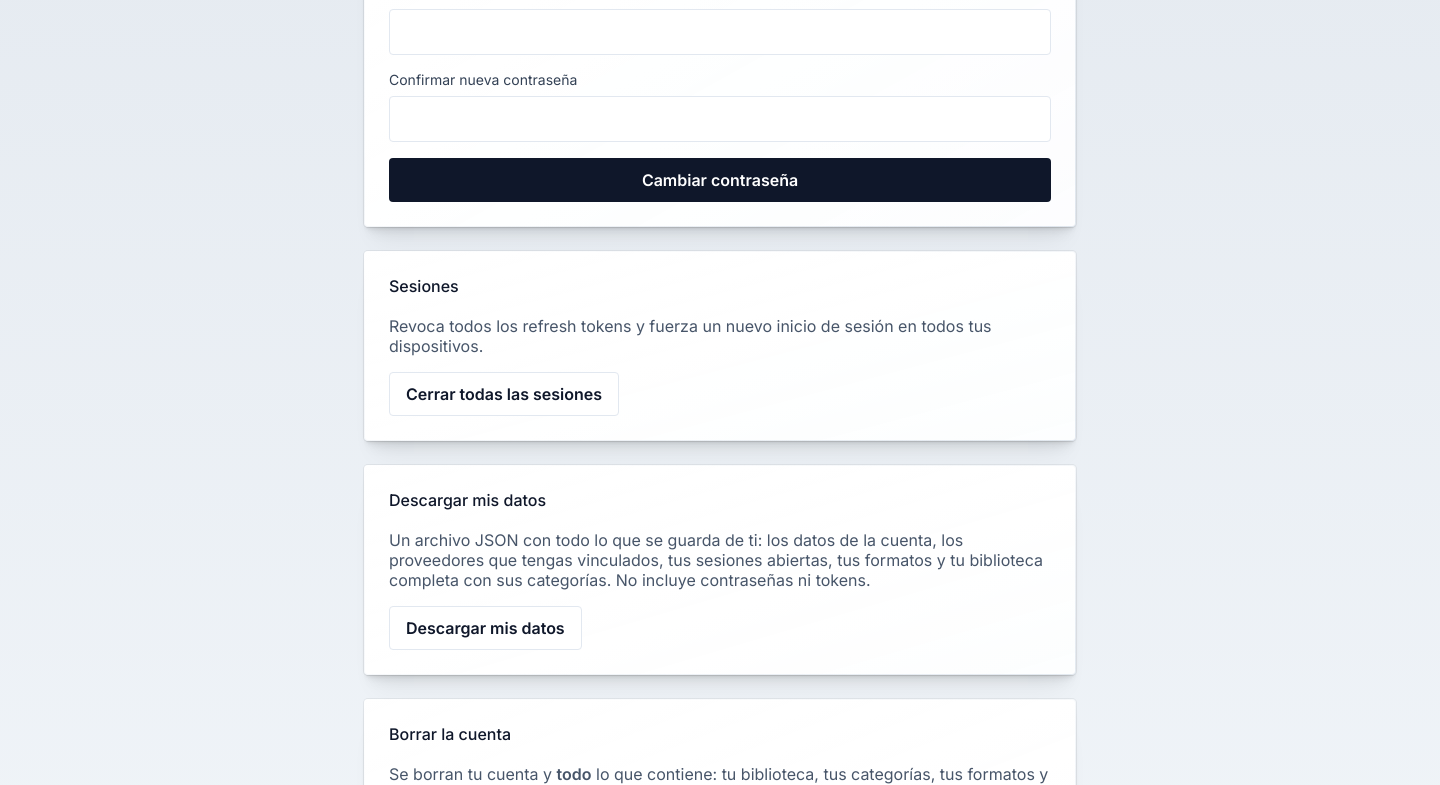
Test case: ProfileView › confirms logout-all, shows a toast and redirects back to login
(page scrolled)
Click the button "Cerrar todas las sesiones" at (504, 394), box [389,372,619,416]
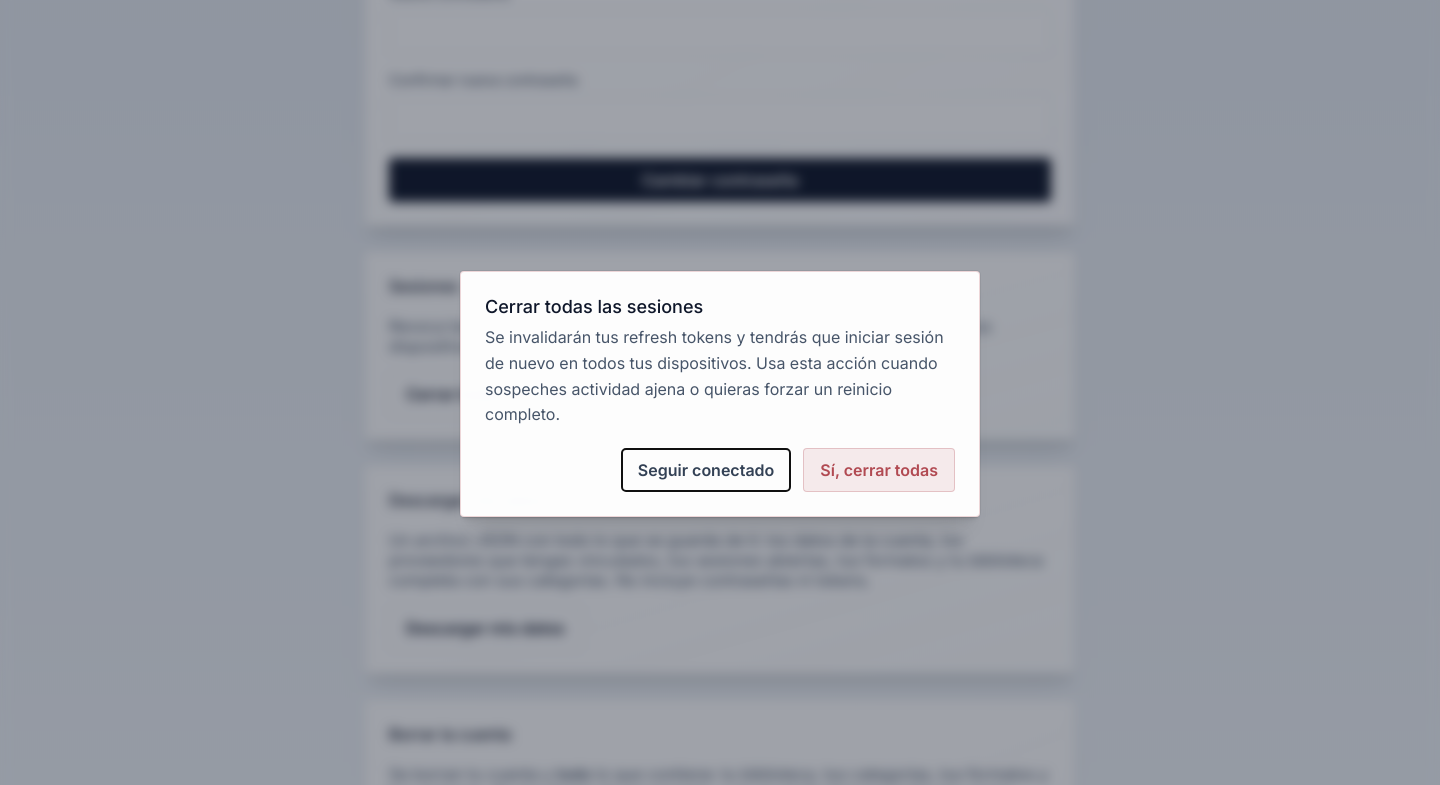
Expected: the dialog "Cerrar todas las sesiones" is shown, [460,271,980,517]
Click the button "Sí, cerrar todas" at (879, 470), box [803,448,955,492]
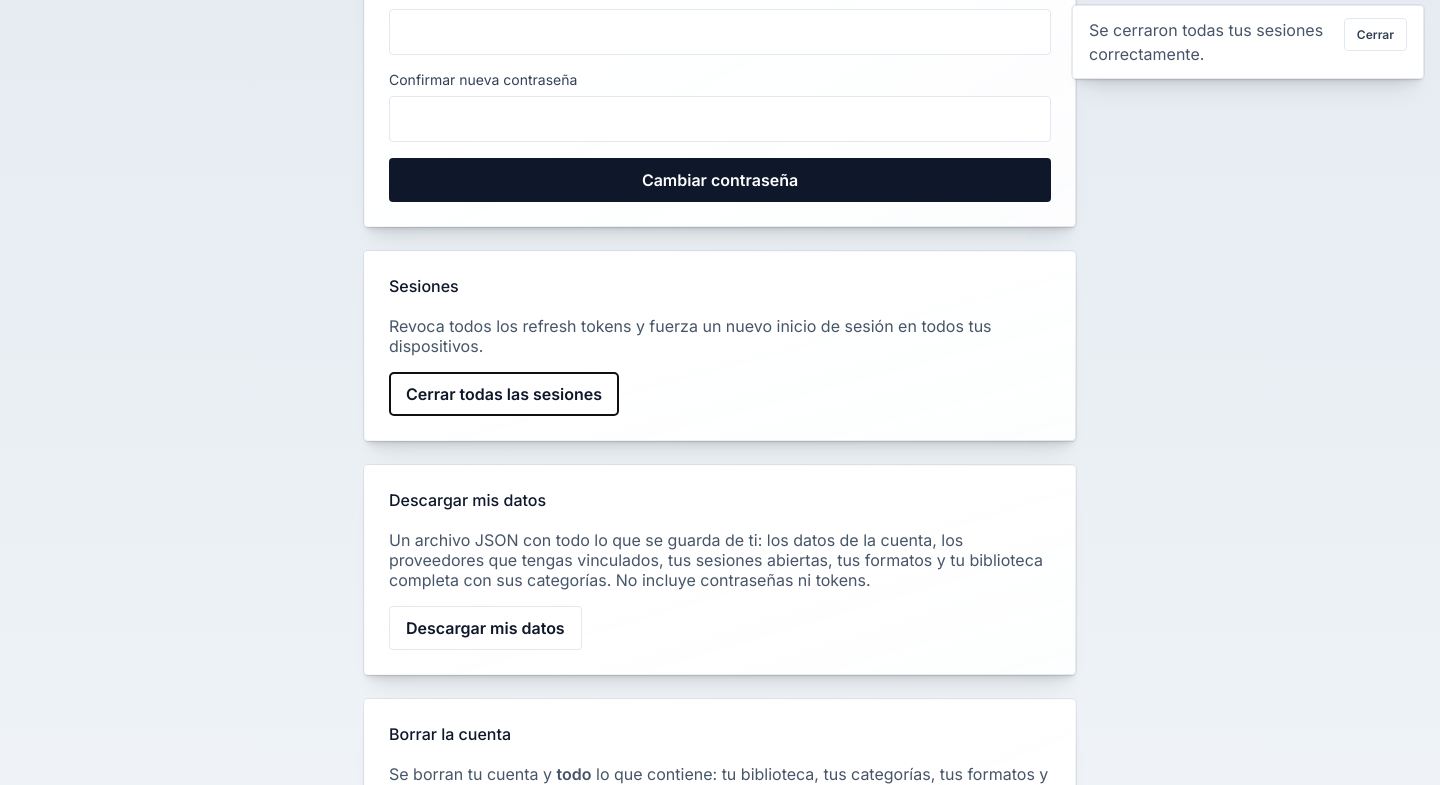
Expected: the text "Se cerraron todas tus sesiones correctamente." is shown, [1089,18,1332,66]
